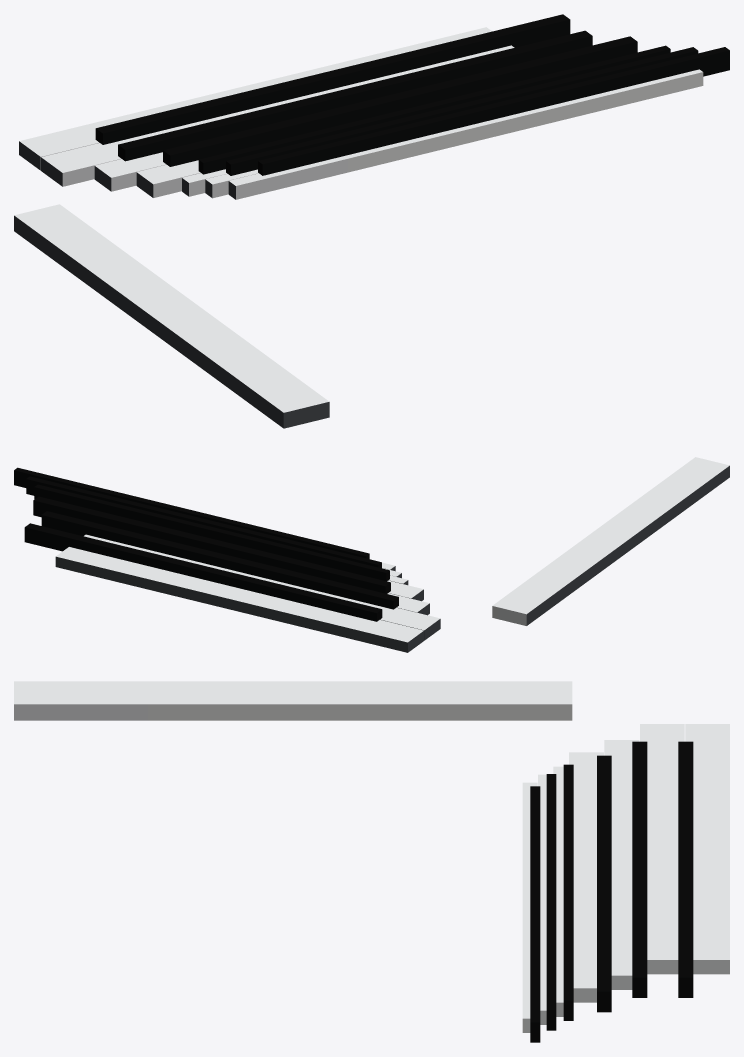
The picture shows the model from 3 angles, top to bottom: view 1: azimuth 30°, elevation 25°; view 2: azimuth 150°, elevation 25°; view 3: azimuth 270°, elevation 25°; orthographic projection. The views are drawn at different scales.
Parts seen in each view (by area): view 1: White_Tile_Non_Dark_Prominent, Black_Tile, Black_Tile__2_, White_Tile_Dark_Prominent__5_, Black_Tile__1_, Black_Tile__5_, Black_Tile__3_, White_Tile_Dark_Prominent, Black_Tile__4_, White_Tile_Dark_Prominent__1_, White_Tile_Dark_Prominent__2_, White_Tile_Dark_Prominent__6_; view 2: White_Tile_Non_Dark_Prominent, White_Tile_Dark_Prominent, Black_Tile, Black_Tile__1_, Black_Tile__2_, Black_Tile__3_, Black_Tile__4_, Black_Tile__5_, White_Tile_Dark_Prominent__1_, White_Tile_Dark_Prominent__6_, White_Tile_Dark_Prominent__2_; view 3: White_Tile_Non_Dark_Prominent, White_Tile_Dark_Prominent, White_Tile_Dark_Prominent__1_, White_Tile_Dark_Prominent__6_, White_Tile_Dark_Prominent__2_, Black_Tile, Black_Tile__1_, Black_Tile__2_, Black_Tile__4_, Black_Tile__5_, Black_Tile__3_, White_Tile_Dark_Prominent__5_ (+2 smaller).
Part boxes in pixels (bbox=[...]): White_Tile_Non_Dark_Prominent: bbox=[14, 204, 329, 428]; Black_Tile: bbox=[95, 14, 570, 144]; Black_Tile__2_: bbox=[163, 36, 637, 166]; White_Tile_Dark_Prominent__5_: bbox=[228, 69, 703, 199]; Black_Tile__1_: bbox=[118, 30, 592, 161]; Black_Tile__5_: bbox=[258, 47, 729, 175]; Black_Tile__3_: bbox=[198, 45, 670, 174]; White_Tile_Dark_Prominent: bbox=[19, 27, 491, 170]; Black_Tile__4_: bbox=[226, 47, 698, 175]; White_Tile_Dark_Prominent__1_: bbox=[41, 45, 514, 186]; White_Tile_Dark_Prominent__2_: bbox=[94, 152, 166, 191]; White_Tile_Dark_Prominent__6_: bbox=[136, 160, 200, 197]; White_Tile_Non_Dark_Prominent: bbox=[492, 457, 729, 625]; White_Tile_Dark_Prominent: bbox=[55, 547, 423, 652]; Black_Tile: bbox=[24, 523, 382, 621]; Black_Tile__1_: bbox=[41, 511, 398, 609]; Black_Tile__2_: bbox=[33, 496, 390, 593]; Black_Tile__3_: bbox=[34, 484, 389, 581]; Black_Tile__4_: bbox=[26, 476, 381, 568]; Black_Tile__5_: bbox=[14, 467, 369, 559]; White_Tile_Dark_Prominent__1_: bbox=[84, 534, 440, 640]; White_Tile_Dark_Prominent__6_: bbox=[387, 580, 423, 601]; White_Tile_Dark_Prominent__2_: bbox=[387, 593, 429, 615]; White_Tile_Non_Dark_Prominent: bbox=[14, 681, 572, 720]; White_Tile_Dark_Prominent: bbox=[685, 724, 729, 974]; White_Tile_Dark_Prominent__1_: bbox=[640, 724, 684, 974]; White_Tile_Dark_Prominent__6_: bbox=[569, 752, 603, 1002]; White_Tile_Dark_Prominent__2_: bbox=[604, 740, 639, 989]; Black_Tile: bbox=[678, 741, 693, 997]; Black_Tile__1_: bbox=[632, 741, 647, 997]; Black_Tile__2_: bbox=[597, 755, 611, 1012]; Black_Tile__4_: bbox=[546, 774, 556, 1030]; Black_Tile__5_: bbox=[530, 786, 540, 1042]; Black_Tile__3_: bbox=[563, 764, 573, 1020]; White_Tile_Dark_Prominent__5_: bbox=[522, 782, 537, 1032].
Bounding box in the file's own units: 14812 × 526 × 12762.
Materials: 1 (1 with a texture image).
